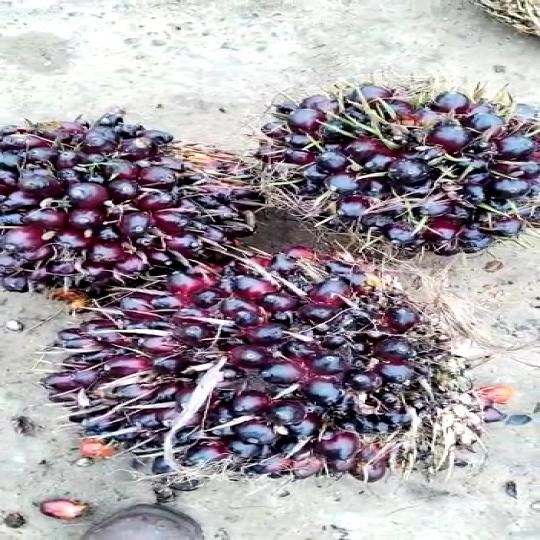mentah: (56, 249, 492, 492), (246, 77, 540, 269), (4, 108, 277, 303)
